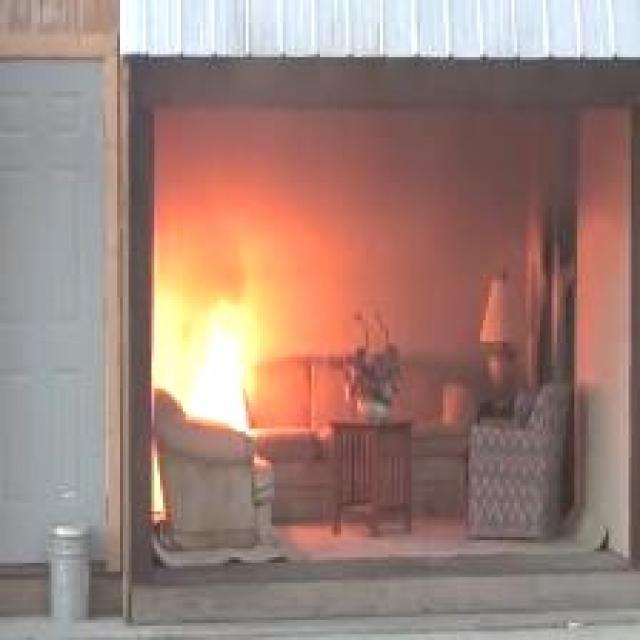fire: (139, 251, 264, 400)
